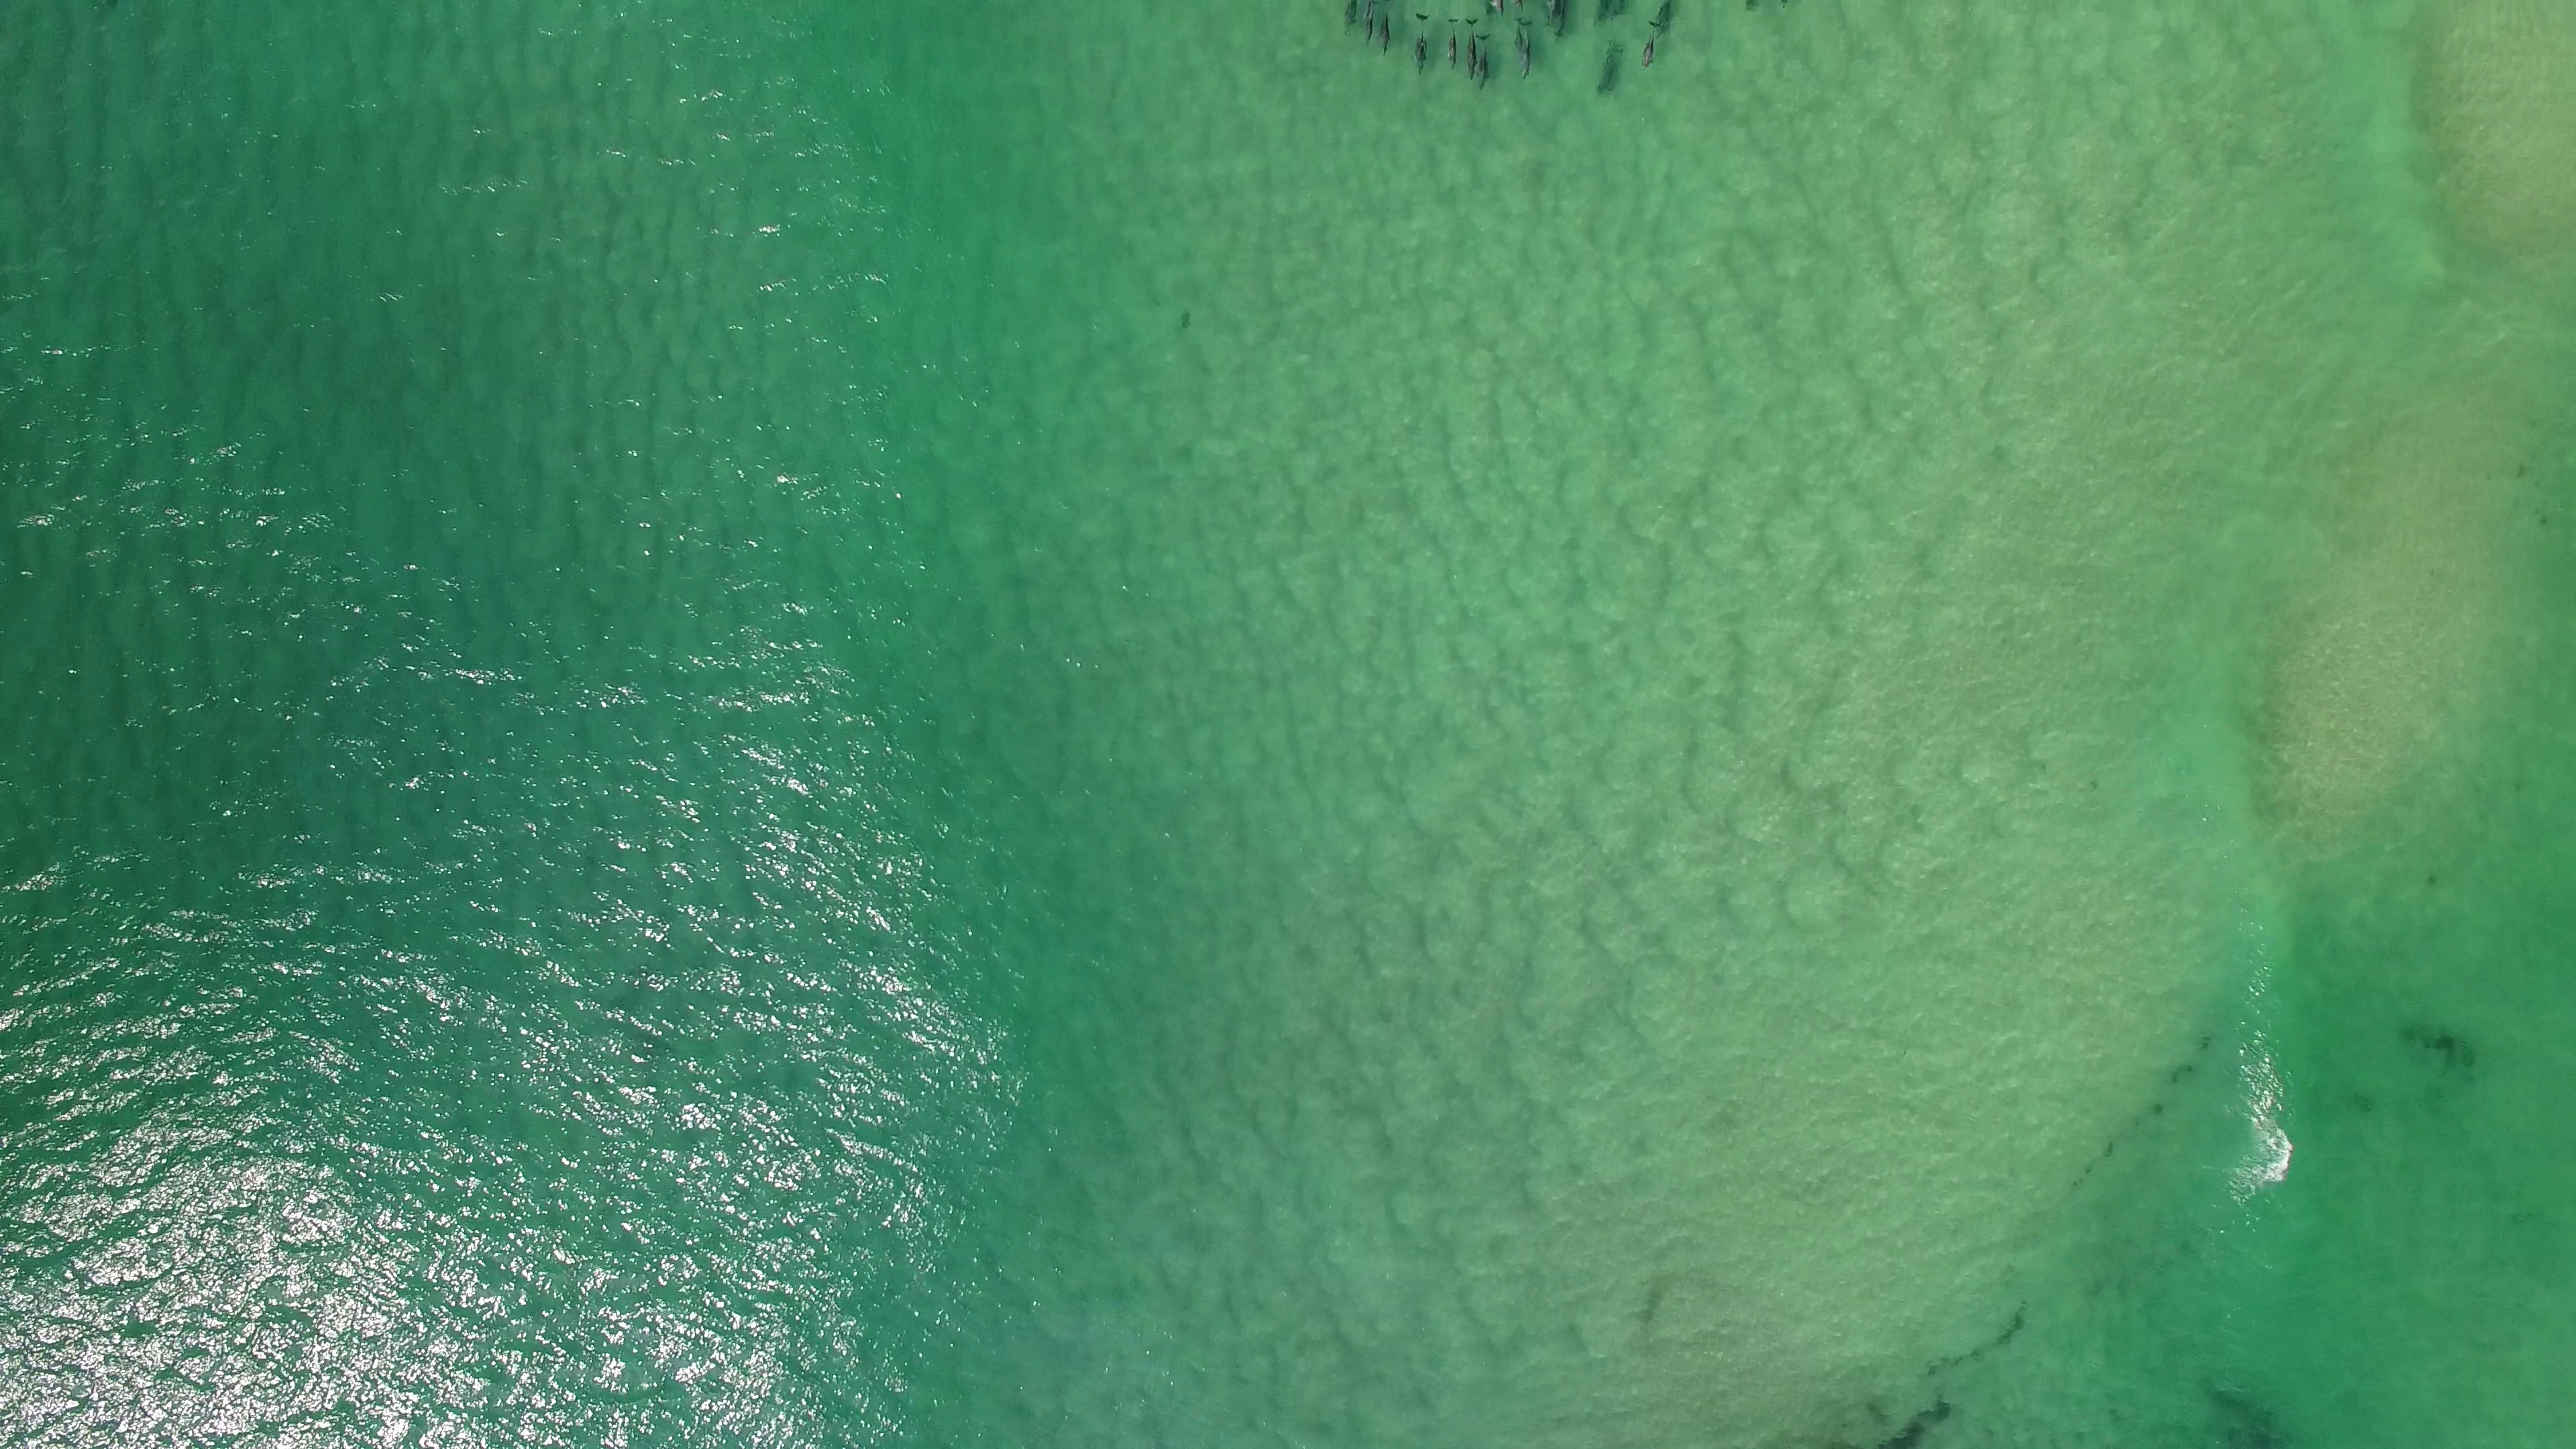dolphin: (1592, 39, 1626, 97), (1410, 11, 1433, 73), (1637, 19, 1665, 69), (1376, 0, 1398, 57), (1550, 0, 1575, 44), (1477, 30, 1495, 90), (1520, 19, 1536, 83), (1465, 16, 1479, 83), (1357, 0, 1378, 42), (1652, 0, 1677, 34), (1338, 0, 1361, 35), (1445, 16, 1460, 71), (1513, 16, 1522, 62), (1490, 0, 1509, 14)
